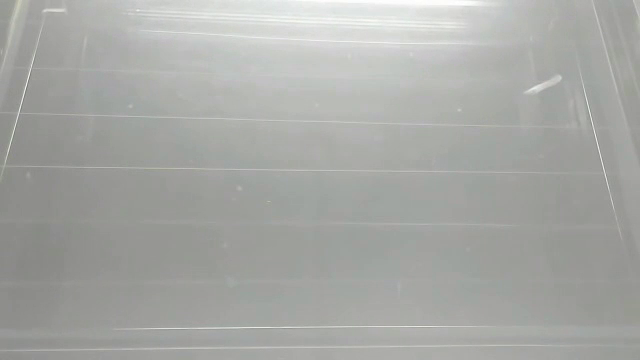alpha: (522, 72, 565, 98), (37, 5, 73, 16)
